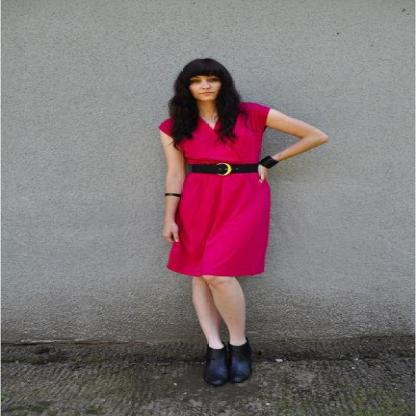dress: (158, 102, 269, 279)
shoe: (197, 341, 254, 387)
